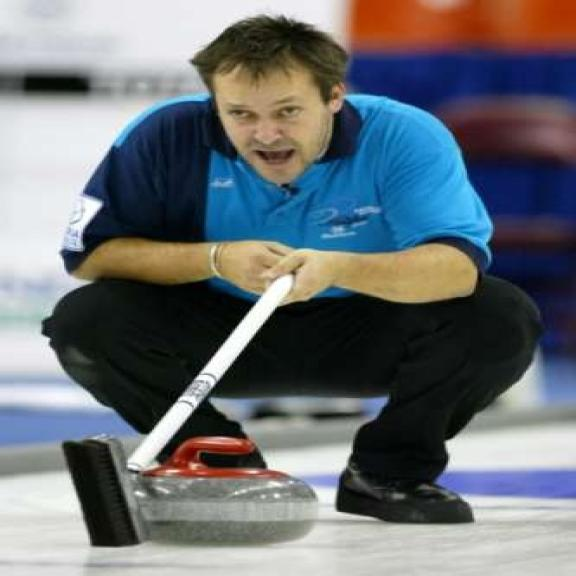face: (214, 58, 350, 190)
